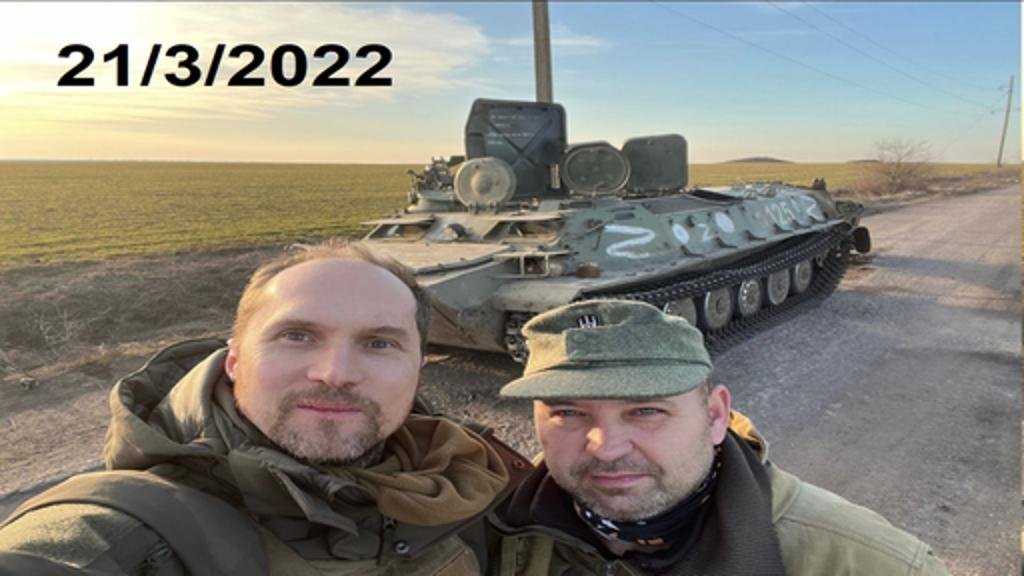APC-IFV: (290, 100, 874, 392)
